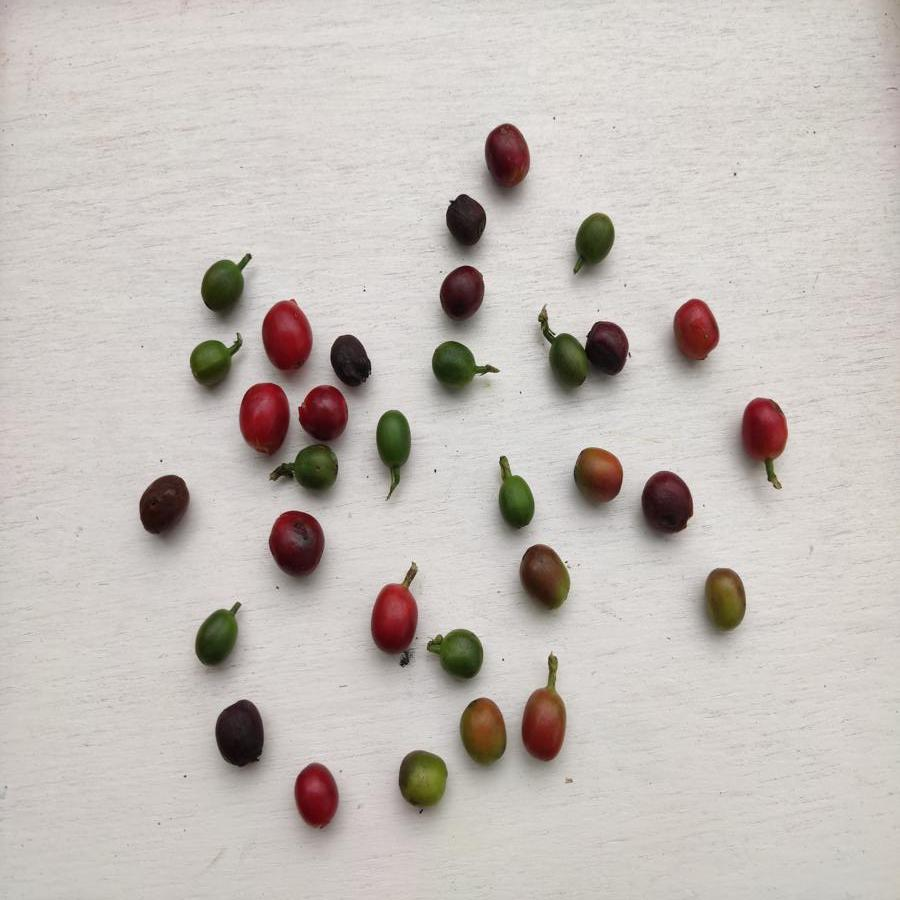Inmaduro: (192, 605, 239, 669), (432, 629, 488, 680), (493, 471, 537, 533), (372, 408, 414, 472), (573, 208, 617, 268), (429, 341, 481, 391), (201, 257, 247, 312), (184, 337, 235, 386), (292, 442, 341, 493), (550, 330, 587, 389)
Maduro: (368, 580, 421, 655), (256, 302, 310, 372), (238, 382, 288, 454), (292, 762, 340, 831), (741, 397, 790, 463), (294, 386, 350, 442), (669, 297, 718, 360)
Pinton: (521, 676, 567, 764), (515, 543, 572, 607), (458, 695, 509, 765), (393, 747, 448, 806), (705, 565, 749, 636), (573, 445, 623, 506)
Sobremaduro: (267, 509, 327, 580), (482, 122, 535, 191), (213, 698, 265, 768), (641, 471, 693, 536), (138, 473, 189, 534), (586, 320, 633, 375), (329, 333, 375, 387), (441, 266, 485, 321), (442, 193, 486, 246)
